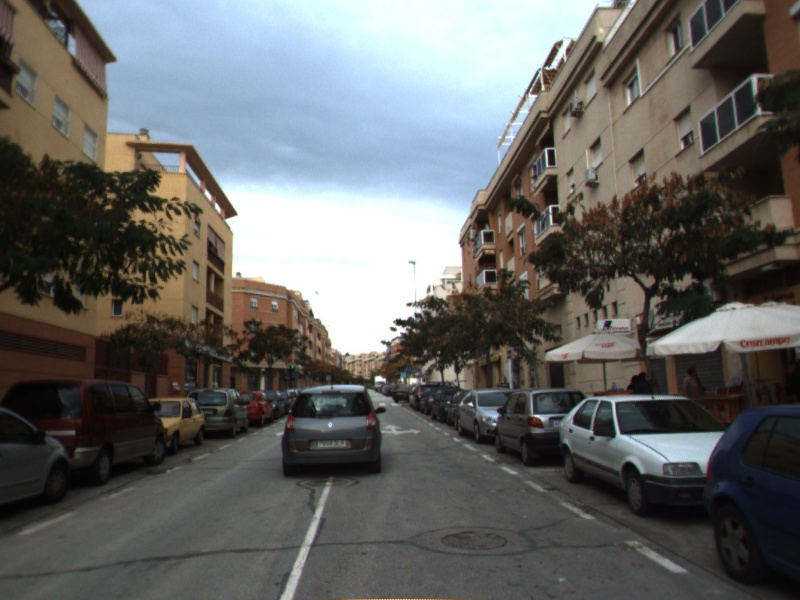STRAIGHT_LEFT_RIGHT: (379, 423, 424, 437)
